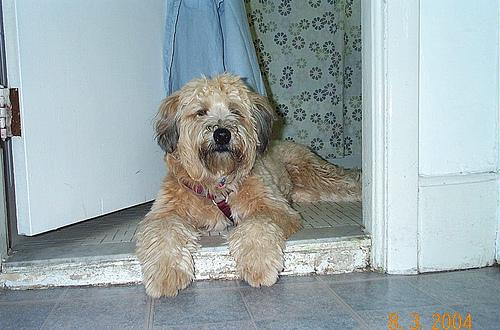dog-wheaten_terrier: (156, 74, 271, 166)
